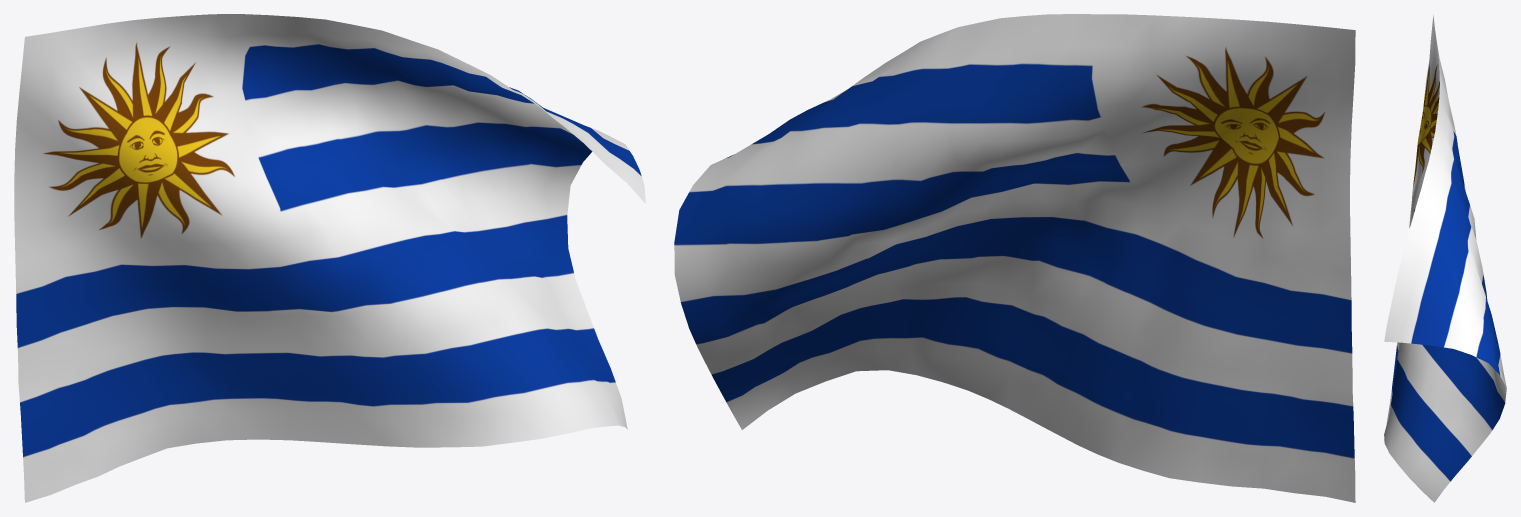
File: uruguay.glb
The picture shows the model from 3 angles, left to right: view 1: azimuth 30°, elevation 25°; view 2: azimuth 150°, elevation 25°; view 3: azimuth 270°, elevation 25°; orthographic projection. The views are drawn at different scales.
Visible parts, largest first — view 1: Flag ShapeKeys_2_4_7; view 2: Flag ShapeKeys_2_4_7; view 3: Flag ShapeKeys_2_4_7.
Part boxes in pixels (<box>): Flag ShapeKeys_2_4_7: <box>14,14,645,502</box>; Flag ShapeKeys_2_4_7: <box>674,14,1355,502</box>; Flag ShapeKeys_2_4_7: <box>1384,15,1506,502</box>.
Bounding box in the file's own units: 2.8 × 2.32 × 0.8164.
1 material, 1 textured.
